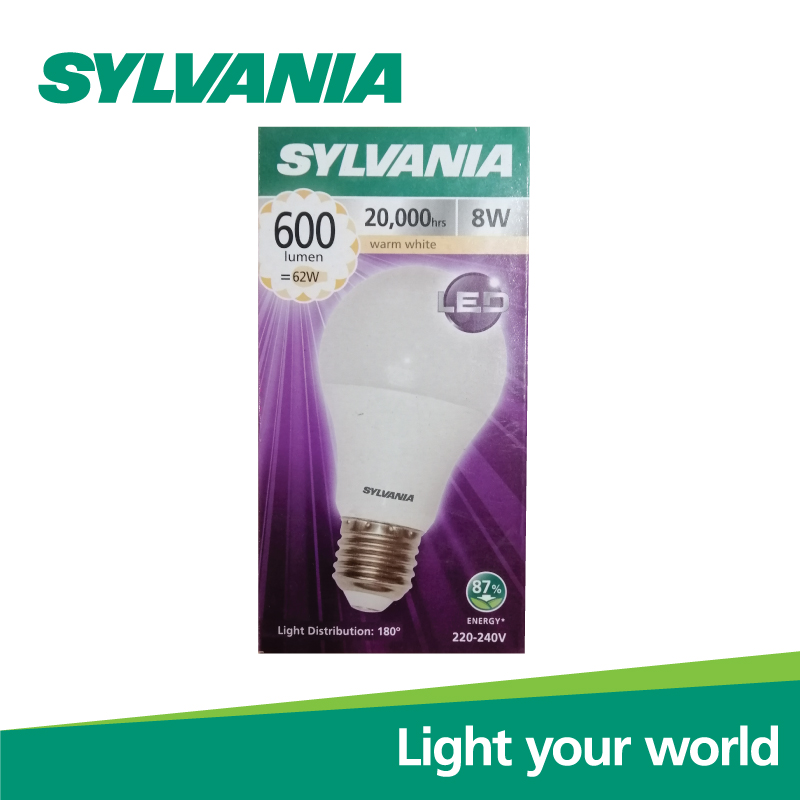Light_bulb: (312, 251, 504, 613)
